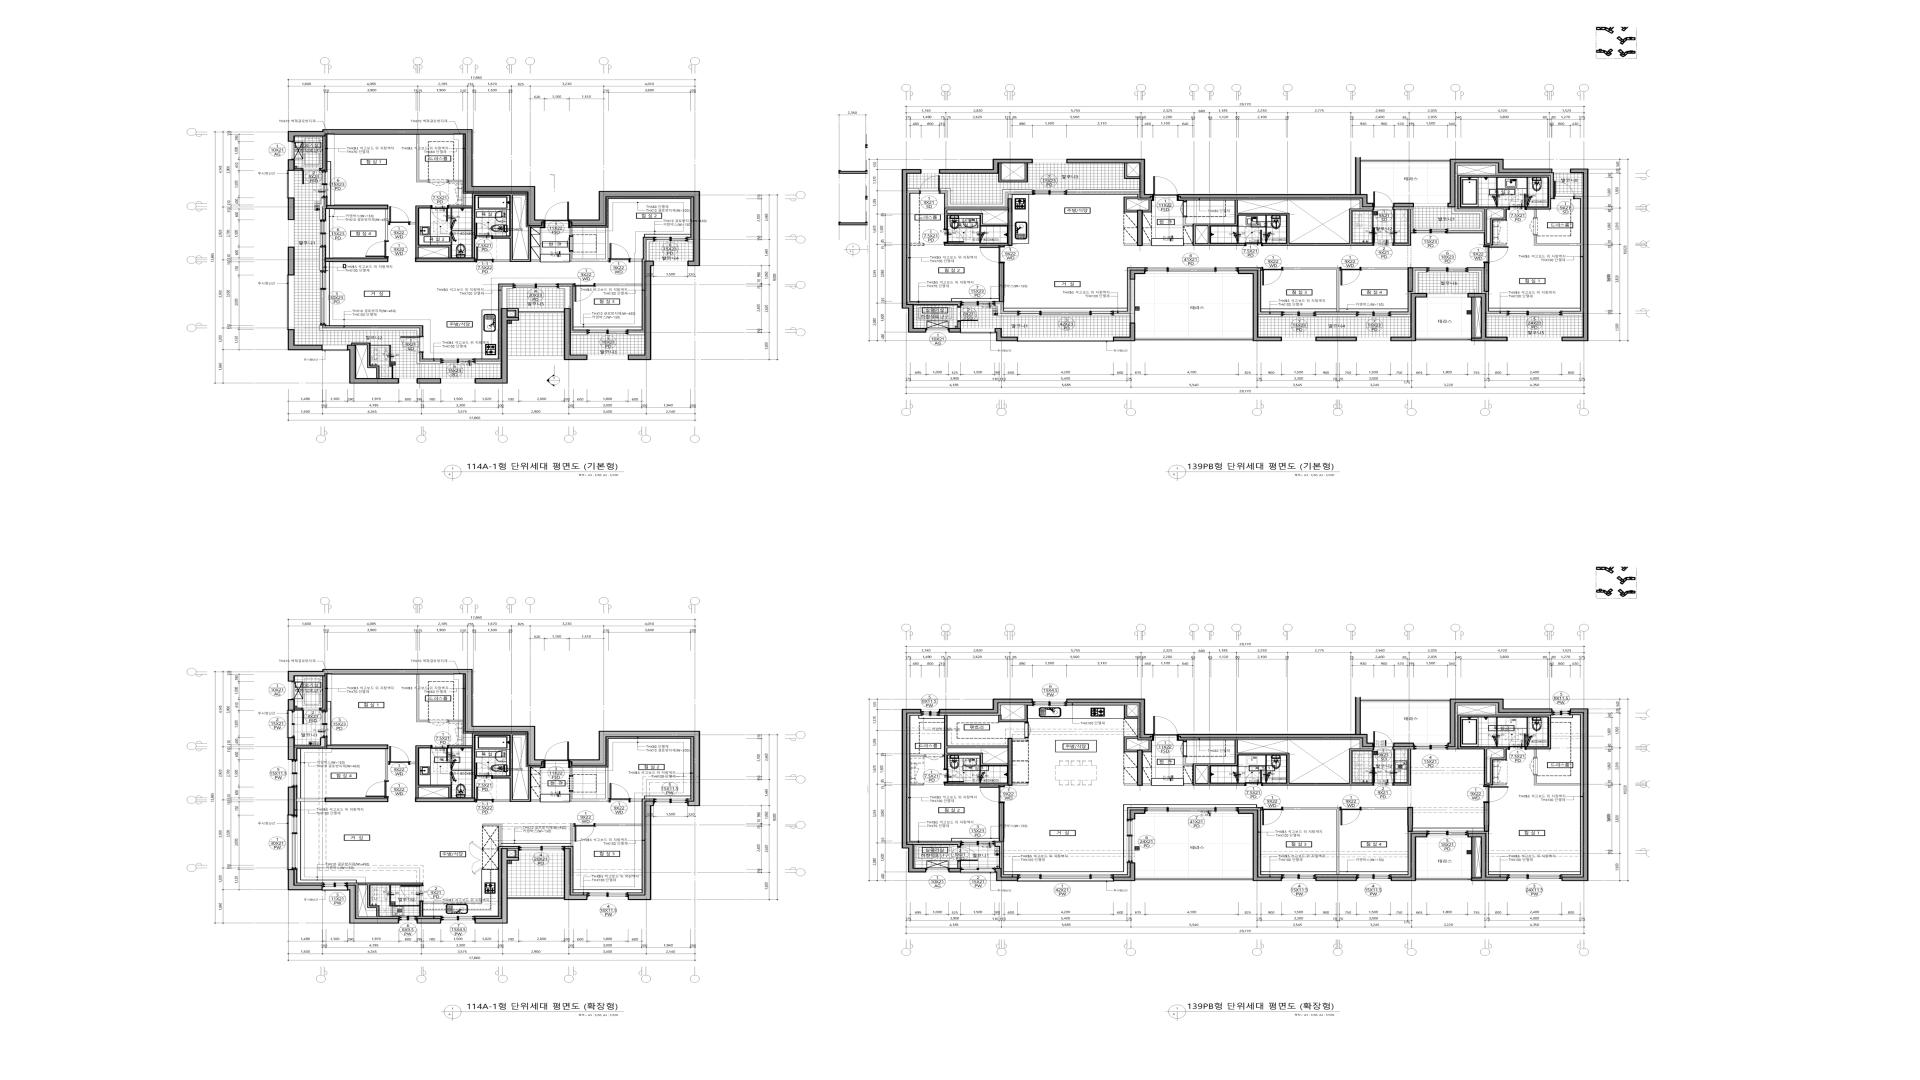door: (543, 742, 570, 769), (543, 203, 570, 228), (1153, 716, 1178, 741), (1153, 177, 1178, 200), (980, 245, 1005, 264), (1484, 245, 1509, 264), (1261, 266, 1283, 286), (608, 783, 630, 803), (608, 243, 630, 262), (1484, 786, 1509, 803), (980, 786, 1005, 803), (1340, 266, 1361, 286), (1373, 227, 1394, 247), (1261, 807, 1283, 825), (388, 207, 410, 225), (365, 781, 389, 798), (1373, 191, 1394, 210), (1553, 181, 1575, 199), (919, 175, 940, 194), (1340, 807, 1361, 825), (1373, 767, 1394, 786), (1373, 732, 1394, 750), (574, 823, 595, 841), (388, 746, 409, 765), (574, 284, 595, 302), (400, 886, 423, 902), (365, 241, 389, 257), (400, 336, 423, 352), (302, 167, 320, 185), (475, 762, 493, 779), (957, 307, 978, 322), (943, 769, 964, 783), (957, 847, 978, 861), (1245, 229, 1262, 247), (431, 745, 448, 762), (1509, 733, 1526, 750), (302, 708, 320, 724), (475, 787, 493, 803), (475, 247, 493, 262), (475, 223, 493, 239), (943, 229, 964, 243), (1509, 194, 1526, 210), (1245, 770, 1262, 786), (431, 206, 448, 222), (1530, 218, 1538, 235), (1530, 758, 1538, 775), (924, 754, 944, 761), (429, 179, 448, 186), (1025, 723, 1031, 738), (429, 720, 448, 725)
wall: (287, 669, 543, 766), (287, 129, 543, 225), (570, 731, 700, 806), (570, 191, 700, 266), (1178, 157, 1373, 207), (1178, 698, 1373, 748), (1184, 740, 1373, 786), (1184, 199, 1373, 245), (1458, 715, 1551, 786), (1458, 175, 1551, 245), (448, 194, 539, 262), (448, 733, 539, 802), (1448, 699, 1552, 748), (1448, 158, 1552, 207), (1561, 708, 1589, 881), (1561, 169, 1589, 342), (902, 709, 926, 873), (902, 169, 926, 332), (1283, 807, 1340, 874), (1067, 158, 1153, 199), (475, 848, 520, 924), (944, 715, 1007, 769), (1067, 699, 1153, 738), (475, 309, 520, 384), (1238, 269, 1282, 342), (1238, 810, 1282, 881), (628, 800, 654, 901), (628, 261, 654, 360), (1283, 268, 1340, 311), (409, 745, 452, 798), (359, 882, 423, 916), (410, 206, 452, 257), (347, 885, 400, 924), (347, 345, 400, 384), (1468, 293, 1507, 342), (1468, 833, 1507, 881), (1391, 293, 1427, 342), (940, 189, 1033, 207), (1391, 833, 1427, 881), (939, 158, 1033, 174), (939, 699, 1033, 713), (944, 208, 1007, 229), (570, 767, 608, 802), (570, 228, 608, 262), (564, 848, 588, 901), (564, 309, 587, 360), (319, 326, 419, 336), (351, 343, 380, 378), (1113, 280, 1135, 323), (1448, 207, 1484, 231), (287, 330, 322, 351), (287, 869, 322, 890), (1394, 749, 1411, 786), (1394, 208, 1411, 245), (417, 675, 429, 723), (417, 135, 429, 182), (998, 164, 1029, 182), (998, 705, 1027, 723), (1534, 235, 1580, 245), (1534, 775, 1580, 786), (1135, 877, 1253, 881), (1113, 862, 1135, 881), (483, 824, 501, 847), (1113, 323, 1135, 342), (1361, 160, 1449, 164), (1361, 699, 1449, 703), (326, 257, 388, 262), (1468, 270, 1482, 293), (294, 737, 324, 748), (327, 204, 388, 210), (415, 257, 475, 262), (1135, 338, 1253, 340), (996, 868, 1018, 881), (996, 303, 1018, 316), (996, 328, 1018, 342), (501, 286, 513, 309), (1415, 270, 1427, 293), (998, 803, 1005, 843), (1007, 198, 1013, 247), (998, 264, 1005, 302), (324, 798, 388, 802), (1007, 738, 1013, 786), (417, 353, 440, 364), (326, 745, 388, 749), (1137, 749, 1143, 786), (1137, 210, 1143, 247), (559, 286, 570, 309), (415, 798, 475, 802), (1124, 737, 1138, 753), (1125, 164, 1139, 179), (1124, 196, 1138, 212), (1416, 338, 1472, 342), (1416, 877, 1472, 881), (508, 895, 563, 899), (1316, 336, 1357, 342), (907, 843, 961, 847), (907, 303, 961, 307), (994, 843, 1002, 868), (287, 247, 294, 276), (1125, 704, 1138, 719), (1484, 803, 1490, 832), (1067, 190, 1139, 193), (1484, 264, 1490, 293), (287, 787, 294, 815), (320, 676, 326, 711), (320, 137, 326, 170), (944, 783, 1007, 786), (1130, 810, 1146, 820), (944, 243, 1007, 245), (1130, 269, 1146, 280), (1407, 807, 1414, 832), (1407, 268, 1414, 293), (1316, 877, 1357, 881), (287, 198, 294, 220), (287, 737, 294, 760), (646, 240, 653, 261), (417, 378, 442, 384), (417, 918, 442, 923), (595, 284, 642, 286), (1361, 807, 1407, 810), (1143, 740, 1153, 753), (1361, 268, 1407, 270), (319, 198, 324, 220), (297, 798, 324, 802), (1143, 200, 1153, 212), (1472, 837, 1474, 878), (1316, 314, 1357, 316), (1472, 298, 1474, 338), (1394, 742, 1414, 748), (508, 848, 518, 857), (508, 309, 518, 318), (319, 247, 323, 270), (1258, 314, 1282, 318), (385, 210, 388, 241), (385, 749, 388, 781), (1394, 203, 1414, 207), (287, 160, 294, 171), (287, 699, 294, 711), (475, 361, 501, 364), (948, 868, 961, 873), (595, 824, 642, 825), (571, 824, 574, 847), (419, 902, 423, 916), (1486, 314, 1507, 316), (1563, 314, 1582, 316), (1391, 314, 1411, 316), (948, 328, 961, 332), (630, 258, 642, 262), (571, 332, 587, 335), (1013, 783, 1029, 786), (448, 720, 463, 723), (1124, 783, 1137, 786), (907, 189, 919, 191), (630, 799, 642, 802), (957, 861, 961, 868), (957, 322, 961, 328), (570, 228, 572, 236), (294, 167, 302, 170), (570, 767, 572, 775), (1143, 783, 1151, 786), (1013, 738, 1029, 740), (1575, 194, 1582, 196), (448, 181, 463, 182), (910, 756, 924, 757), (295, 708, 302, 711), (910, 785, 923, 786), (1124, 244, 1137, 245), (688, 240, 694, 243), (1009, 194, 1011, 198), (1143, 244, 1151, 245)
window: (1018, 874, 1113, 882), (286, 815, 298, 869), (1146, 268, 1238, 274), (1146, 807, 1238, 814), (1018, 311, 1113, 316), (286, 276, 294, 330), (1126, 820, 1135, 862), (1018, 338, 1113, 342), (518, 845, 564, 853), (1507, 874, 1561, 881), (1507, 311, 1563, 316), (320, 270, 326, 326), (1033, 699, 1067, 707), (587, 893, 628, 899), (1427, 831, 1468, 837), (654, 798, 687, 806), (289, 760, 298, 787), (513, 284, 559, 289), (286, 711, 295, 737), (518, 309, 563, 314), (1282, 335, 1316, 342), (1357, 311, 1391, 318), (1282, 311, 1316, 318), (1414, 744, 1448, 750), (1357, 874, 1391, 881), (1282, 874, 1316, 881), (508, 356, 563, 360), (323, 882, 347, 891), (442, 916, 475, 923), (1427, 268, 1468, 273), (587, 355, 628, 360), (587, 330, 628, 335), (286, 171, 294, 198), (1509, 338, 1561, 342), (961, 328, 996, 334), (1033, 190, 1067, 195), (1414, 228, 1448, 233), (961, 868, 996, 873), (440, 359, 475, 364), (961, 301, 996, 306), (442, 378, 475, 384), (654, 261, 687, 266), (320, 711, 327, 737), (961, 841, 994, 847), (653, 237, 688, 241), (289, 220, 294, 247), (322, 171, 327, 198), (320, 220, 326, 247), (1414, 203, 1448, 207), (1357, 338, 1391, 342), (1033, 160, 1067, 164), (322, 345, 347, 351), (1552, 709, 1571, 716), (922, 709, 939, 716), (400, 916, 417, 923), (1427, 294, 1468, 297), (400, 378, 417, 384), (289, 682, 294, 699), (289, 142, 294, 160), (926, 328, 948, 332), (926, 868, 948, 872), (1552, 169, 1571, 173), (922, 170, 939, 173)
